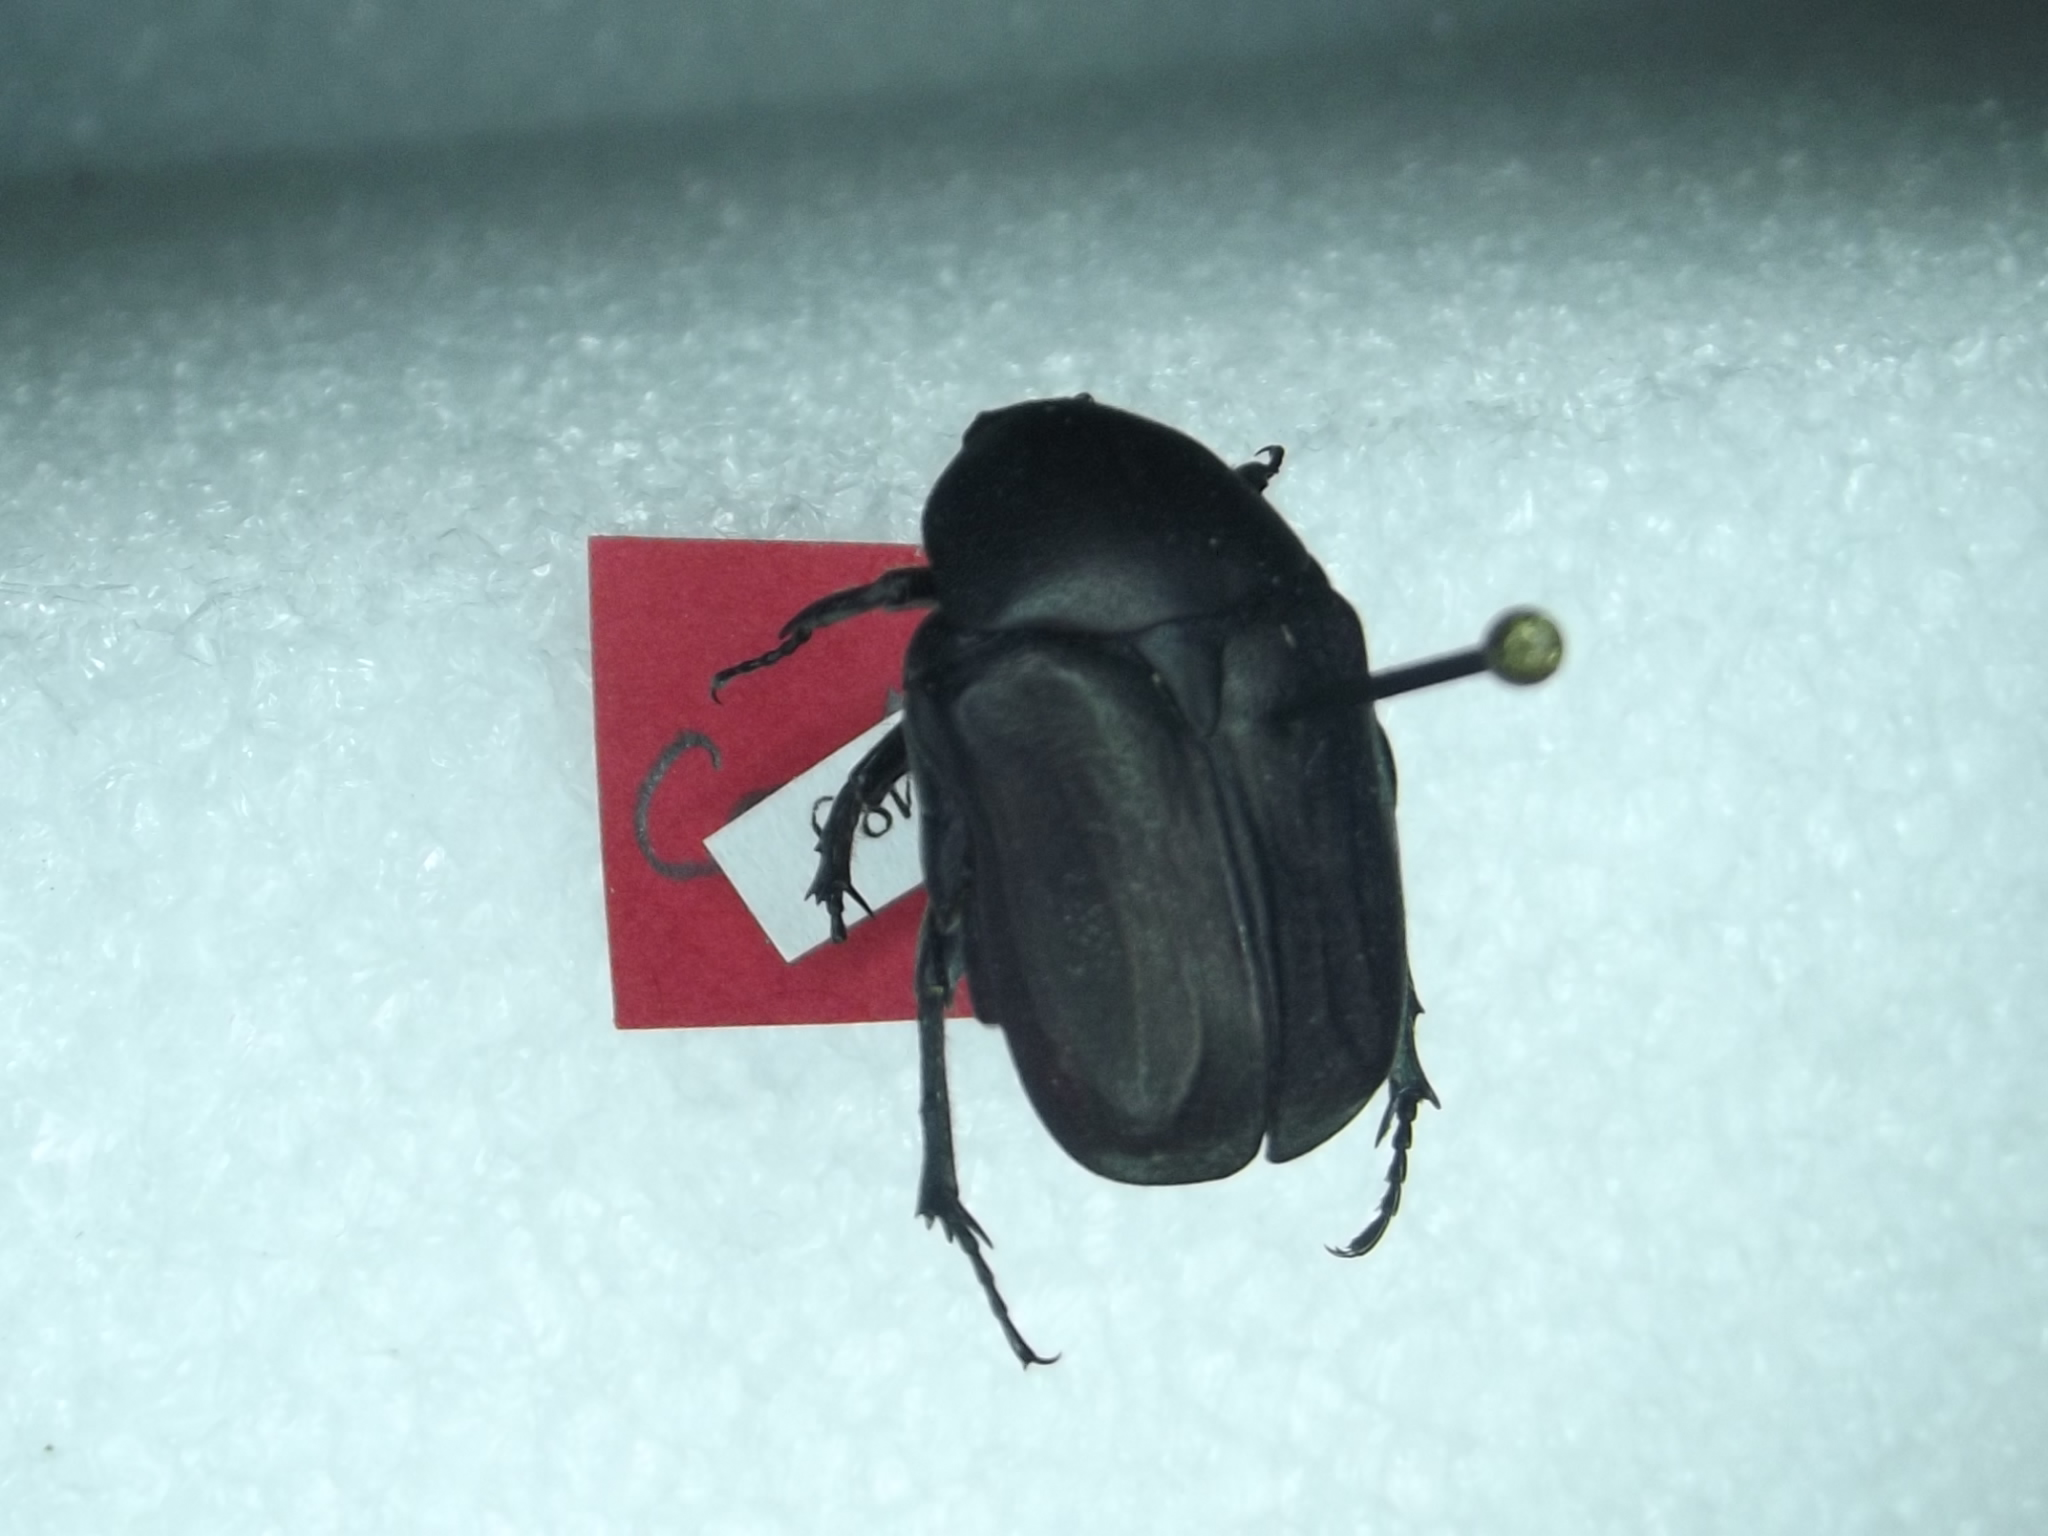Protaetia_vidua: (710, 360, 1448, 1388)
